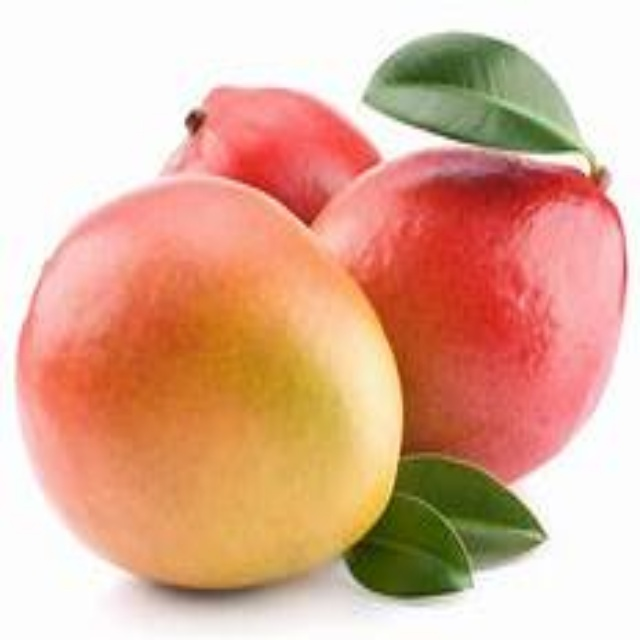mango: (22, 179, 396, 584), (317, 151, 623, 486), (164, 80, 383, 222)
